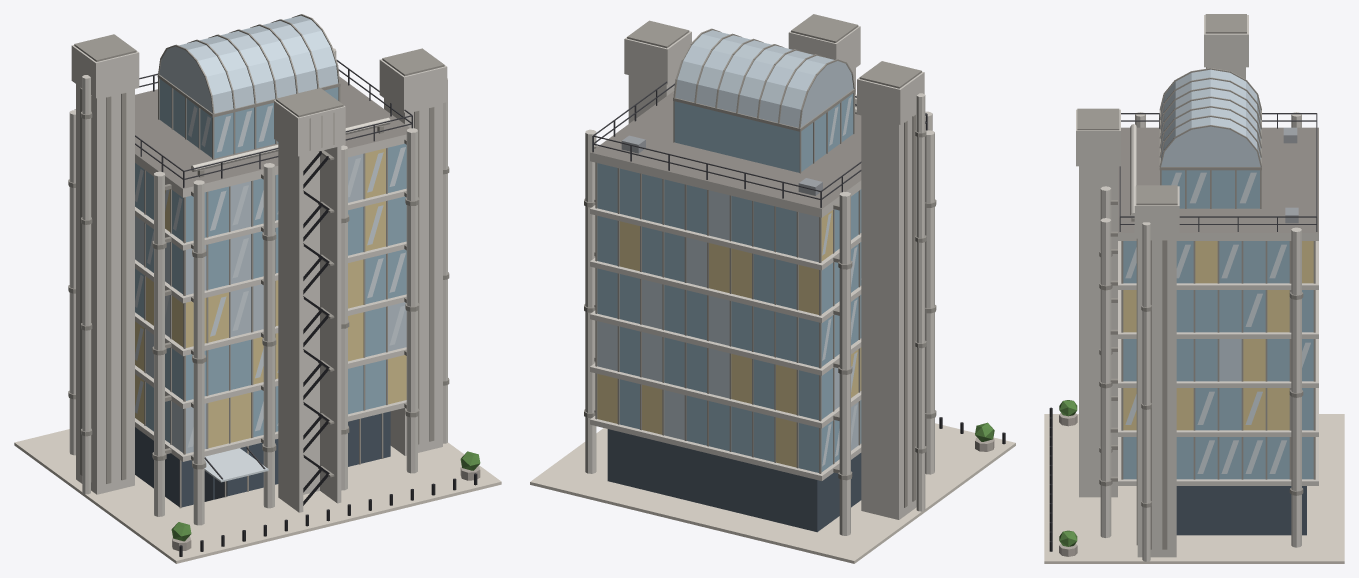
File: OfisKulesi_karisik_1_3_Hafif.fbx
3 views of the same model, side by side, from view 1: azimuth 30°, elevation 25°; view 2: azimuth 150°, elevation 25°; view 3: azimuth 270°, elevation 25° (orthographic). The views are drawn at different scales.
Parts seen in each view (by area): view 1: OfisKulesi_karisik_1_3_Hafif; view 2: OfisKulesi_karisik_1_3_Hafif; view 3: OfisKulesi_karisik_1_3_Hafif.
Boxes of the visible parts, x1,y1,x2,y2 form: OfisKulesi_karisik_1_3_Hafif: (14, 14, 501, 563); OfisKulesi_karisik_1_3_Hafif: (530, 14, 1015, 563); OfisKulesi_karisik_1_3_Hafif: (1044, 14, 1344, 563).
Size of the model in its own units: 23.52 by 29.85 by 20.
